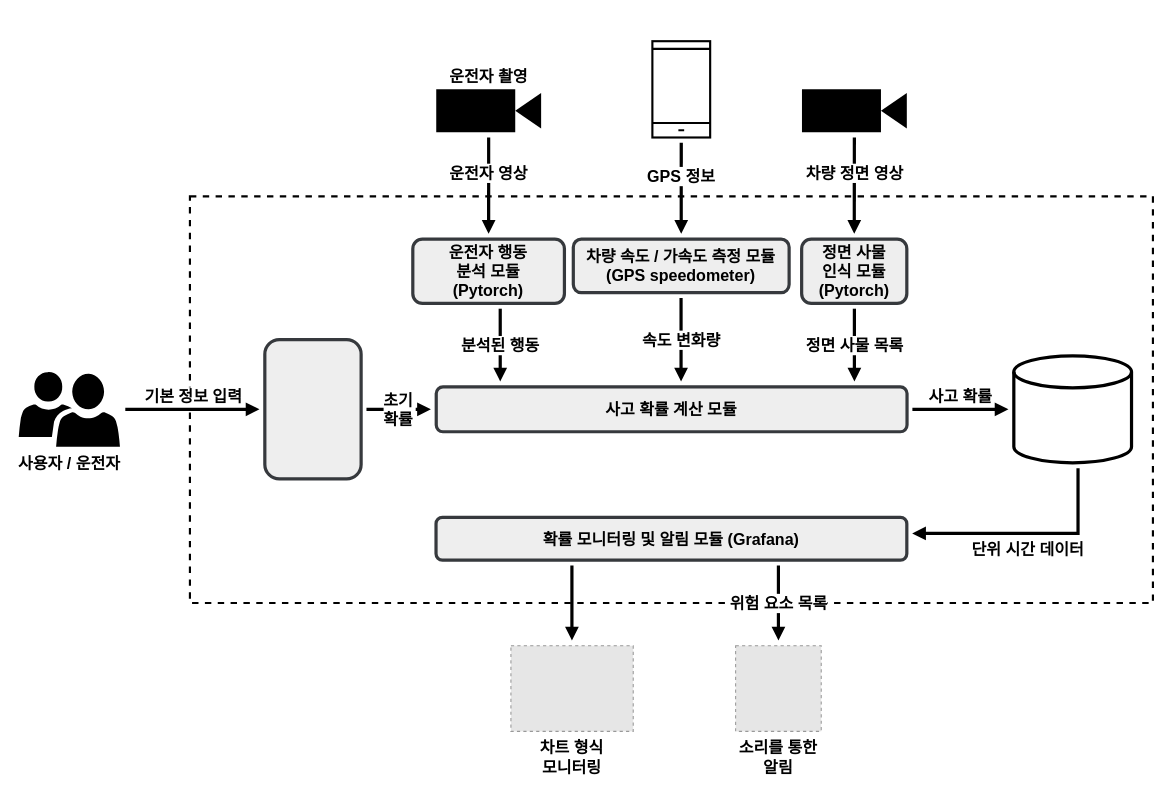
Image size: 1172x794. Some labels were removed from this diagram. Grey dashed boxes stand in for pictures. The shapes that lost their labels are listed below. From the top down, each one's centre as x and y in pixels, then its label:
pixel 681 89: GPS 측정
pixel 853 110: 차량 정면 촬영
pixel 312 409: 초기 사고 확률 계산 모듈 (sklearn)
pixel 1072 409: 사고 확률 DB (Prometheus)
